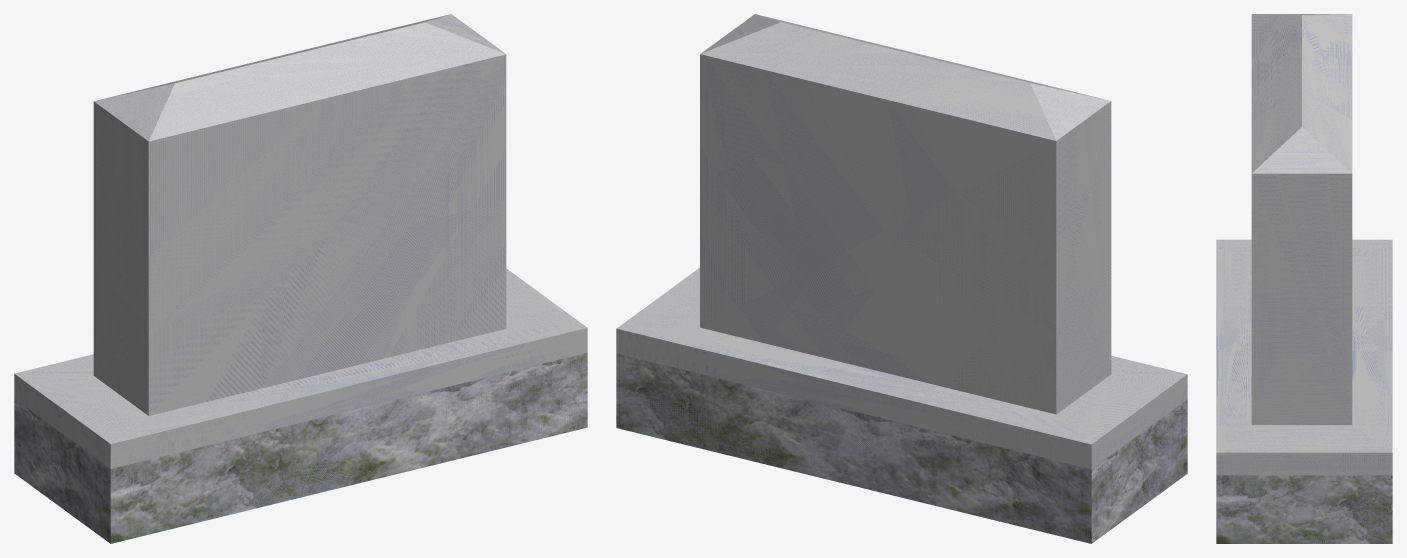
Rendered from HeadStone.dae.
3 renders of one model, left to right at view 1: azimuth 30°, elevation 25°; view 2: azimuth 150°, elevation 25°; view 3: azimuth 270°, elevation 25°, orthographic. The views are drawn at different scales.
Parts seen in each view (by area): view 1: SketchUp (×4); view 2: SketchUp (×4); view 3: SketchUp (×4).
Boxes of the visible parts, <box> form: SketchUp (×4): <box>14,14,587,543</box>; SketchUp (×4): <box>616,14,1187,543</box>; SketchUp (×4): <box>1216,14,1392,543</box>.
Size of the model in its own units: 40 by 14 by 32.
